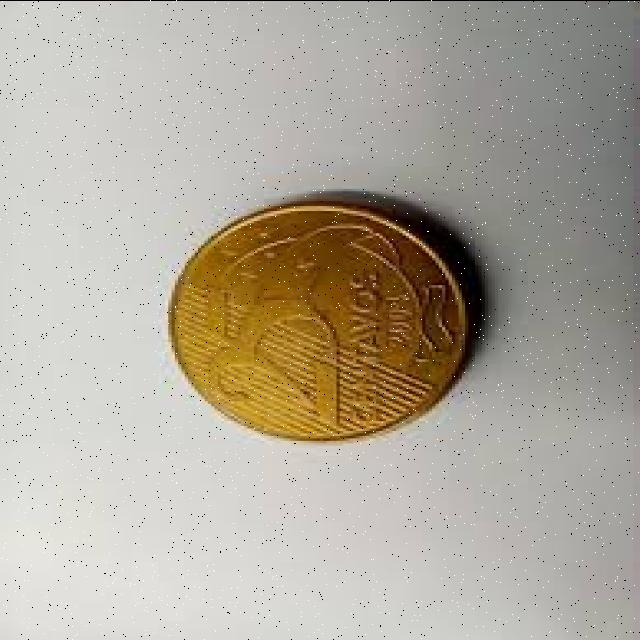25 cent: (171, 211, 467, 430)
